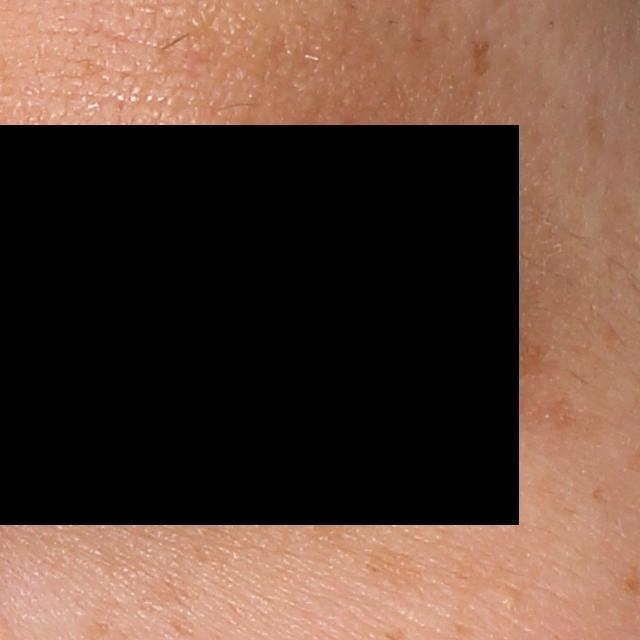comedo: (498, 589, 523, 612)
melasma: (306, 495, 431, 590), (588, 484, 607, 509)
